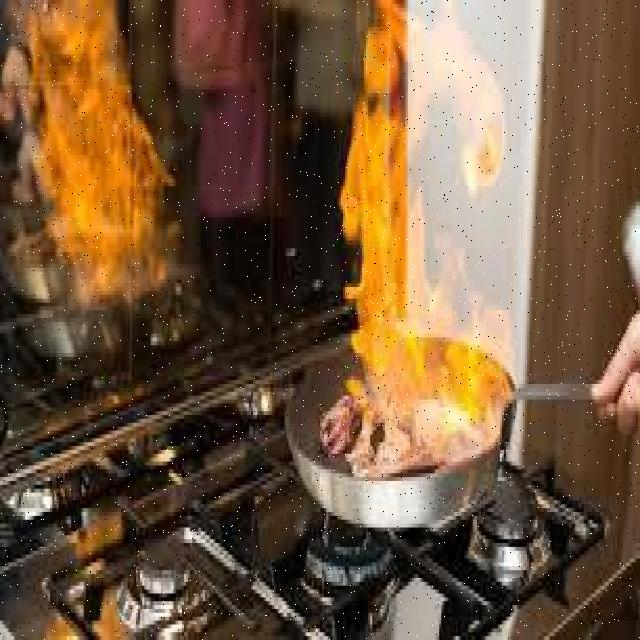fire: (330, 7, 514, 416)
